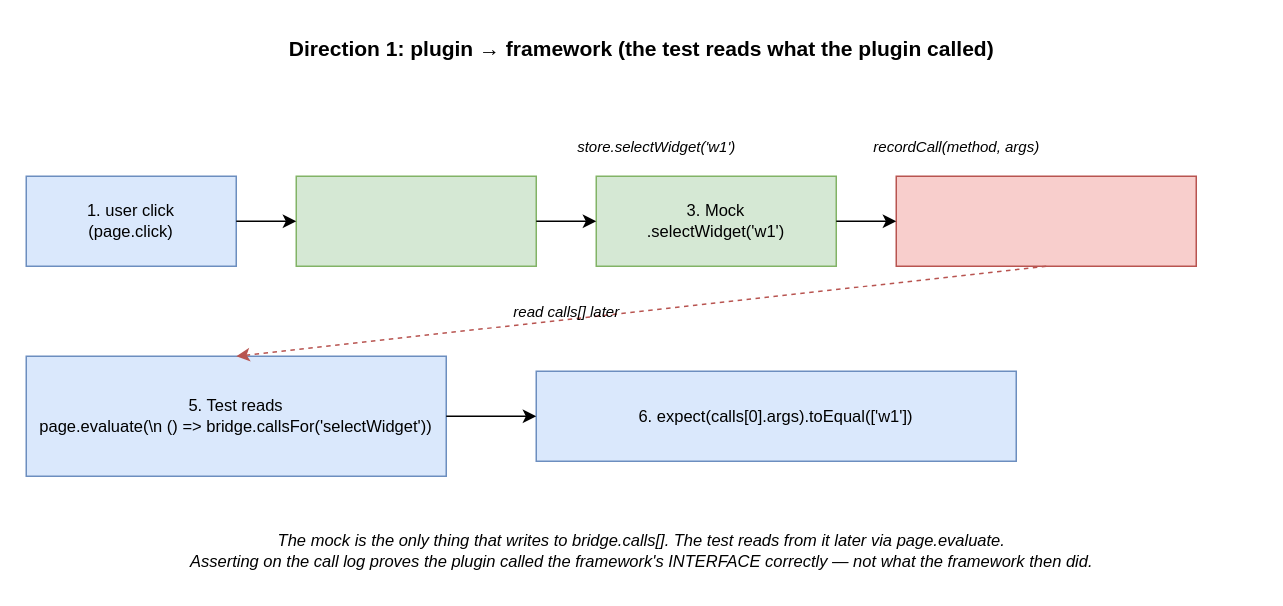
Image size: 1283x606. Some labels were removed from this diagram. Each missing label, with the centre of its shape:
"2. Plugin component handles click" goes at point (415, 220).
"4. bridge.calls[] (append the call)" goes at point (1045, 220).
